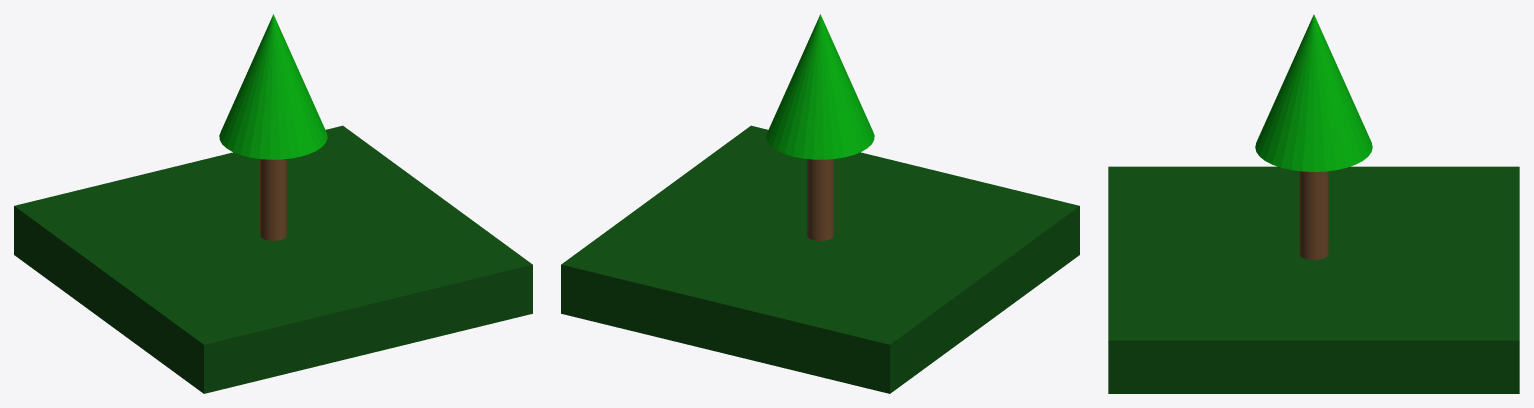
Rendered from case_foret.glb.
3 views of the same model, side by side, from view 1: azimuth 30°, elevation 25°; view 2: azimuth 150°, elevation 25°; view 3: azimuth 270°, elevation 25° (orthographic). The views are drawn at different scales.
Visible parts, largest first — view 1: case_foret, Cône, Cylindre; view 2: case_foret, Cône, Cylindre; view 3: case_foret, Cône, Cylindre.
Part boxes in pixels (box(x1,y1,x2,y2)): case_foret: box(14, 125, 532, 393); Cône: box(219, 14, 327, 159); Cylindre: box(260, 159, 286, 240); case_foret: box(561, 125, 1079, 393); Cône: box(766, 14, 874, 159); Cylindre: box(807, 159, 833, 240); case_foret: box(1108, 166, 1519, 393); Cône: box(1255, 14, 1372, 171); Cylindre: box(1299, 171, 1328, 259).
Bounding box in the file's own units: 1.4 × 1.1 × 1.4.
